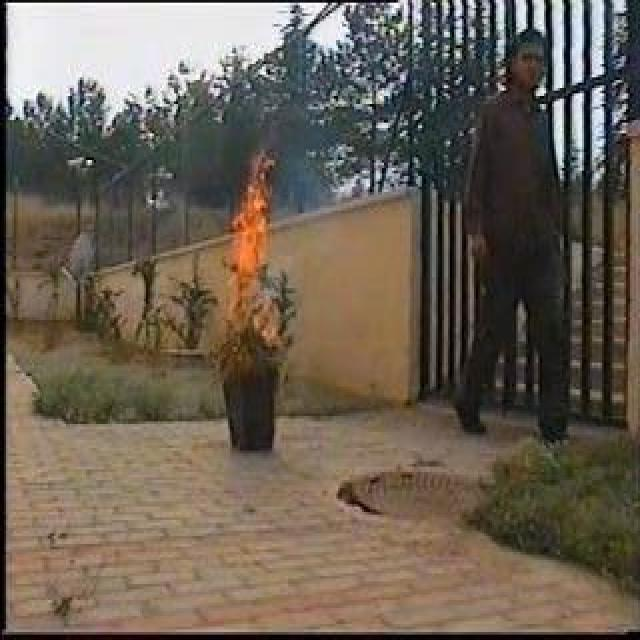Fire: (228, 146, 272, 298)
